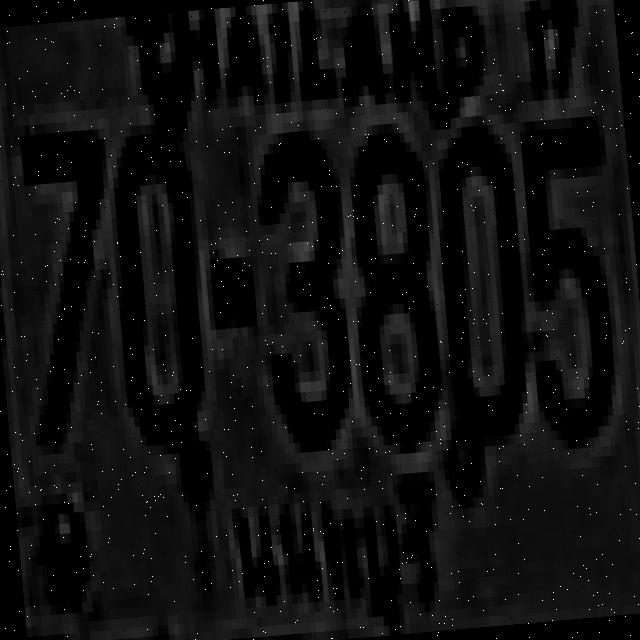0: (98, 121, 210, 448), (424, 118, 530, 444)
3: (248, 123, 354, 440)
5: (513, 110, 619, 437)
7: (14, 119, 120, 445)
8: (335, 121, 441, 447)
Nonthaburi: (224, 459, 445, 640)
